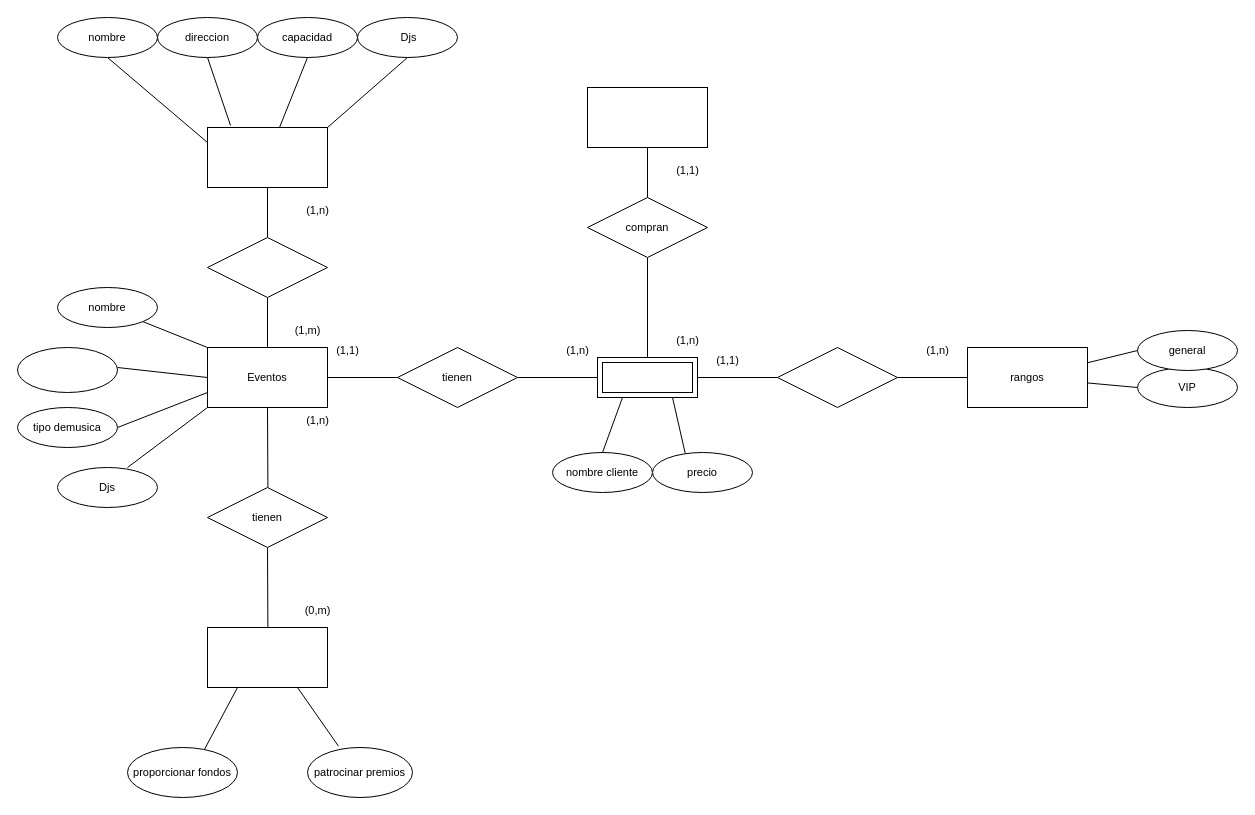
The diagram is 1255 pixels wide and 815 high, and some of its shapes have lost their labels. Here are the shapes that lost their labels. From the top down, the box of each, then its label:
(586, 86, 708, 148): Clientes
(206, 126, 328, 188): Dicotecas
(206, 236, 328, 298): Organizados en
(16, 346, 118, 392): fecha
(596, 356, 698, 398): Entradas
(776, 346, 898, 408): pueden estar en
(206, 626, 328, 688): patrocinadores
